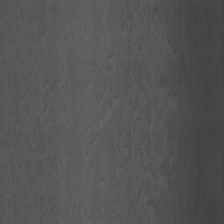silk_spot: (88, 38, 150, 169), (153, 21, 188, 189)
